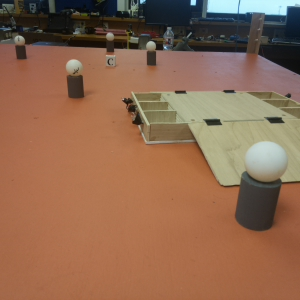blockC: (104, 56, 116, 66)
corner: (250, 15, 262, 53)
obstacle: (234, 140, 286, 234), (65, 59, 85, 98), (144, 41, 157, 65), (14, 35, 27, 59), (104, 32, 115, 52)
side: (119, 92, 170, 144)
slope: (188, 121, 300, 188)
